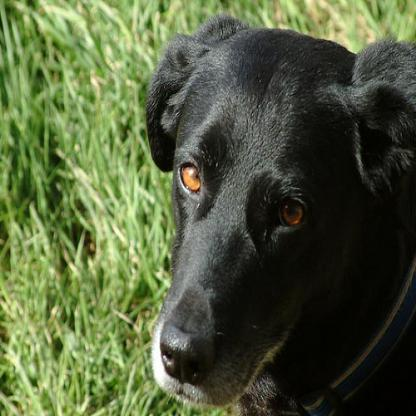dog: (142, 12, 415, 415)
